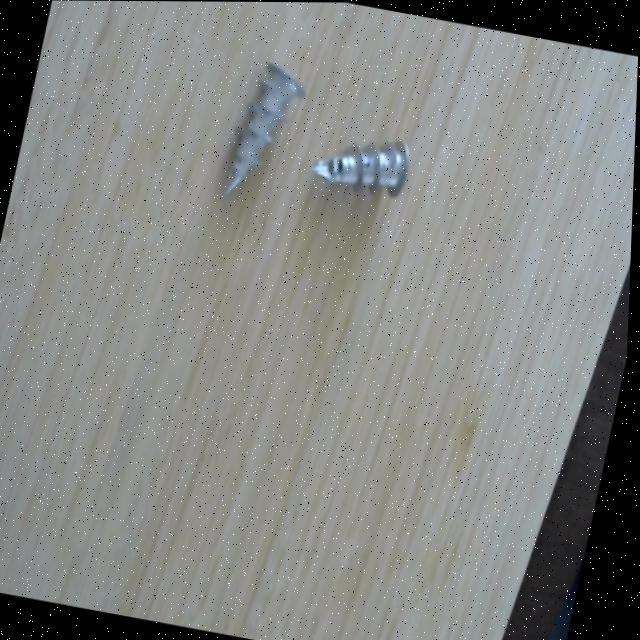Short screw: (211, 49, 323, 207), (306, 133, 417, 202)
